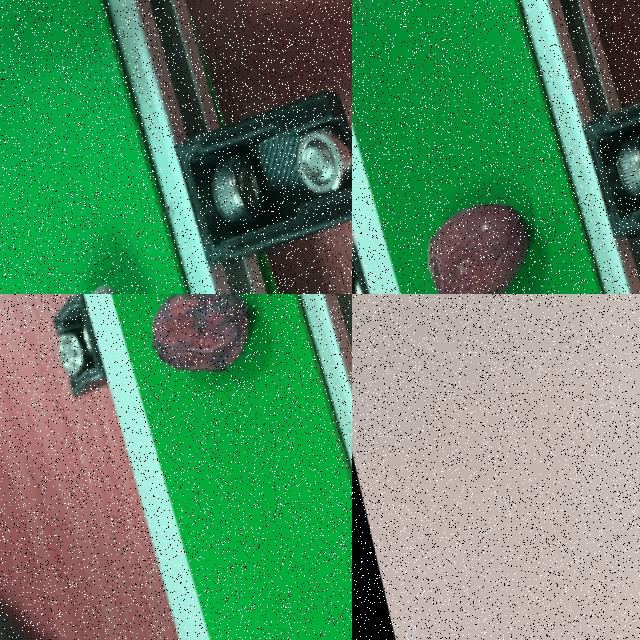Agglomerated_cocoabeans: (568, 294, 639, 639), (0, 212, 228, 293)
Fine_cocoabeans: (362, 78, 612, 293), (72, 294, 312, 455)
